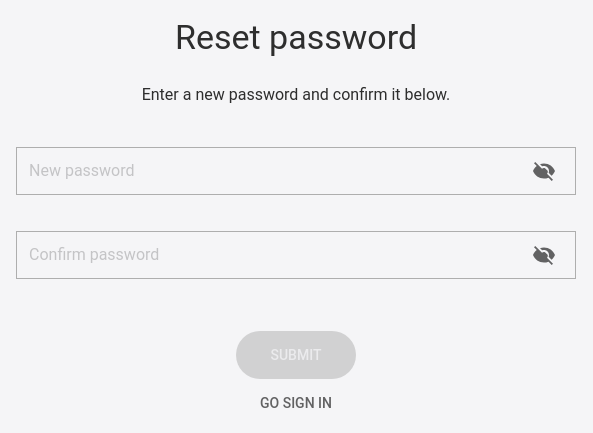
Test case: ResetPasswordPage › disables submit until form is valid
Expected: the button "Submit" is disabled, [236,331,356,379]
Type "123" into the password field with placeholder "New password" at (296, 171), box [16,147,576,195]
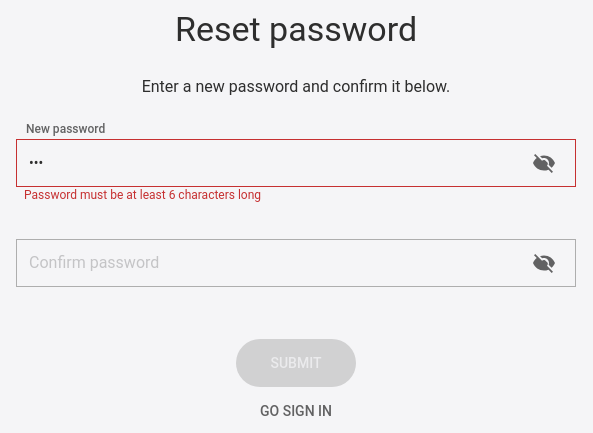
Type "123" into the password field with placeholder "Confirm password" at (296, 263), box [16,239,576,287]
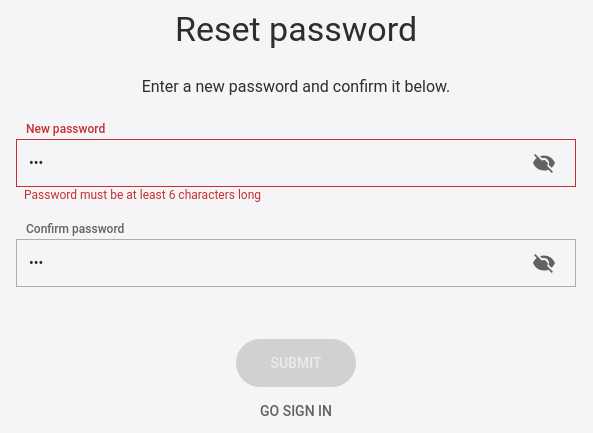
Expected: the button "Submit" is disabled, [236,339,356,387]
Type "123456" into the password field with placeholder "New password" at (296, 163), box [16,139,576,187]
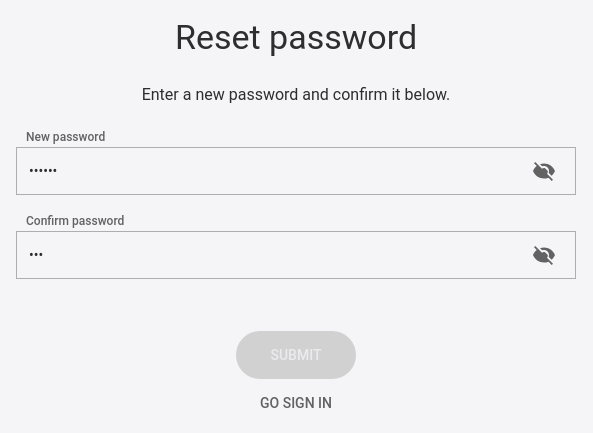
Clear the password field with placeholder "Confirm password" at (296, 255), box [16,231,576,279]
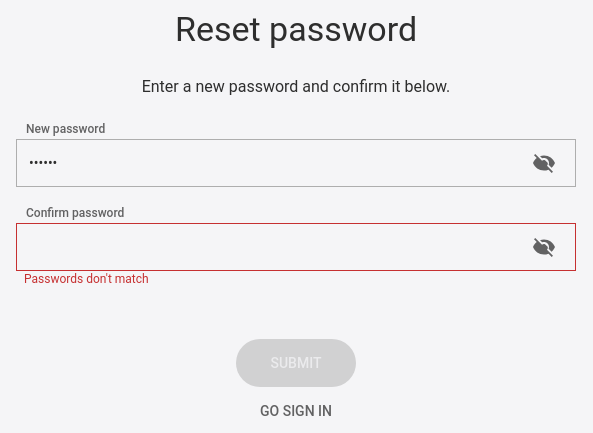
Type "123456" into the password field with placeholder "Confirm password" at (296, 247), box [16,223,576,271]
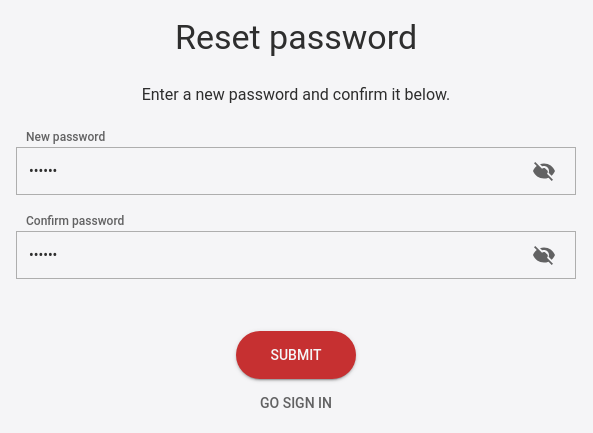
Now the button "Submit" is enabled, box [236,331,356,379]
